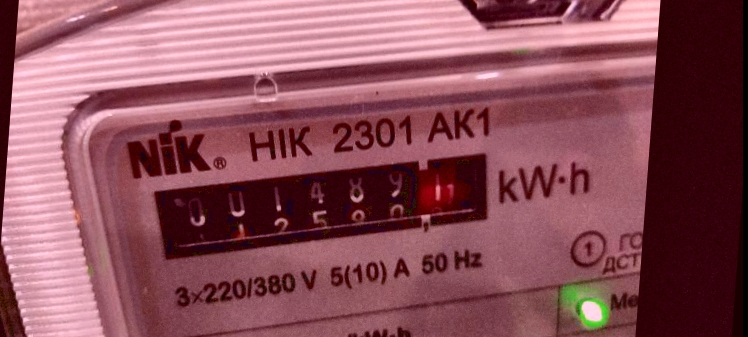0: (221, 181, 250, 219), (182, 192, 209, 229)
1: (426, 164, 448, 204), (266, 180, 288, 213)
4: (304, 173, 329, 206)
8: (345, 168, 368, 206)
9: (384, 165, 406, 199)
screen: (136, 117, 521, 296)
